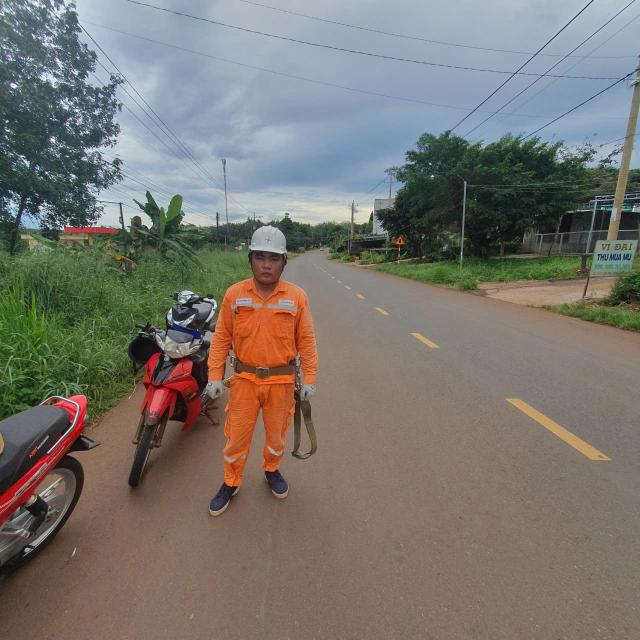harness: (223, 347, 309, 388), (194, 372, 231, 404)
